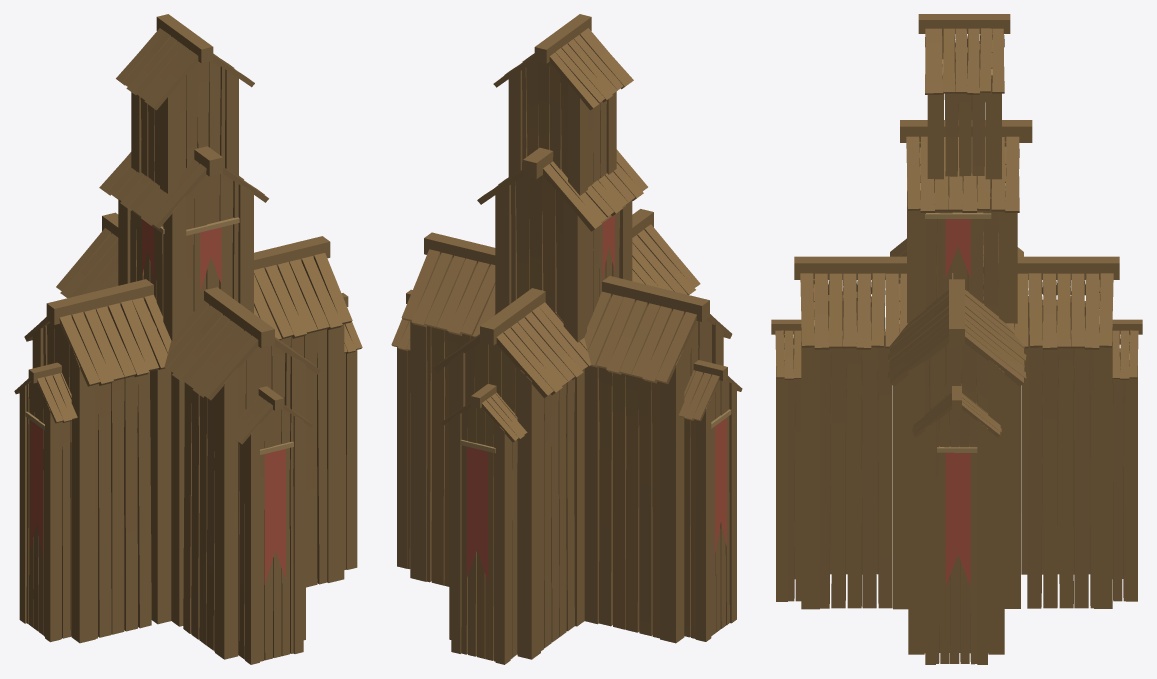
The model's file is wooden-temple.glb.
The picture shows the model from 3 angles, left to right: view 1: azimuth 30°, elevation 25°; view 2: azimuth 150°, elevation 25°; view 3: azimuth 270°, elevation 25°; orthographic projection. The views are drawn at different scales.
Visible parts, largest first — view 1: Temple_FirstAge_Level2; view 2: Temple_FirstAge_Level2; view 3: Temple_FirstAge_Level2.
Part boxes in pixels (x1,y1,x2,y2): Temple_FirstAge_Level2: (14, 14, 362, 664); Temple_FirstAge_Level2: (391, 14, 742, 664); Temple_FirstAge_Level2: (771, 14, 1142, 664).
Bounding box in the file's own units: 1.81 × 3.08 × 1.81.
